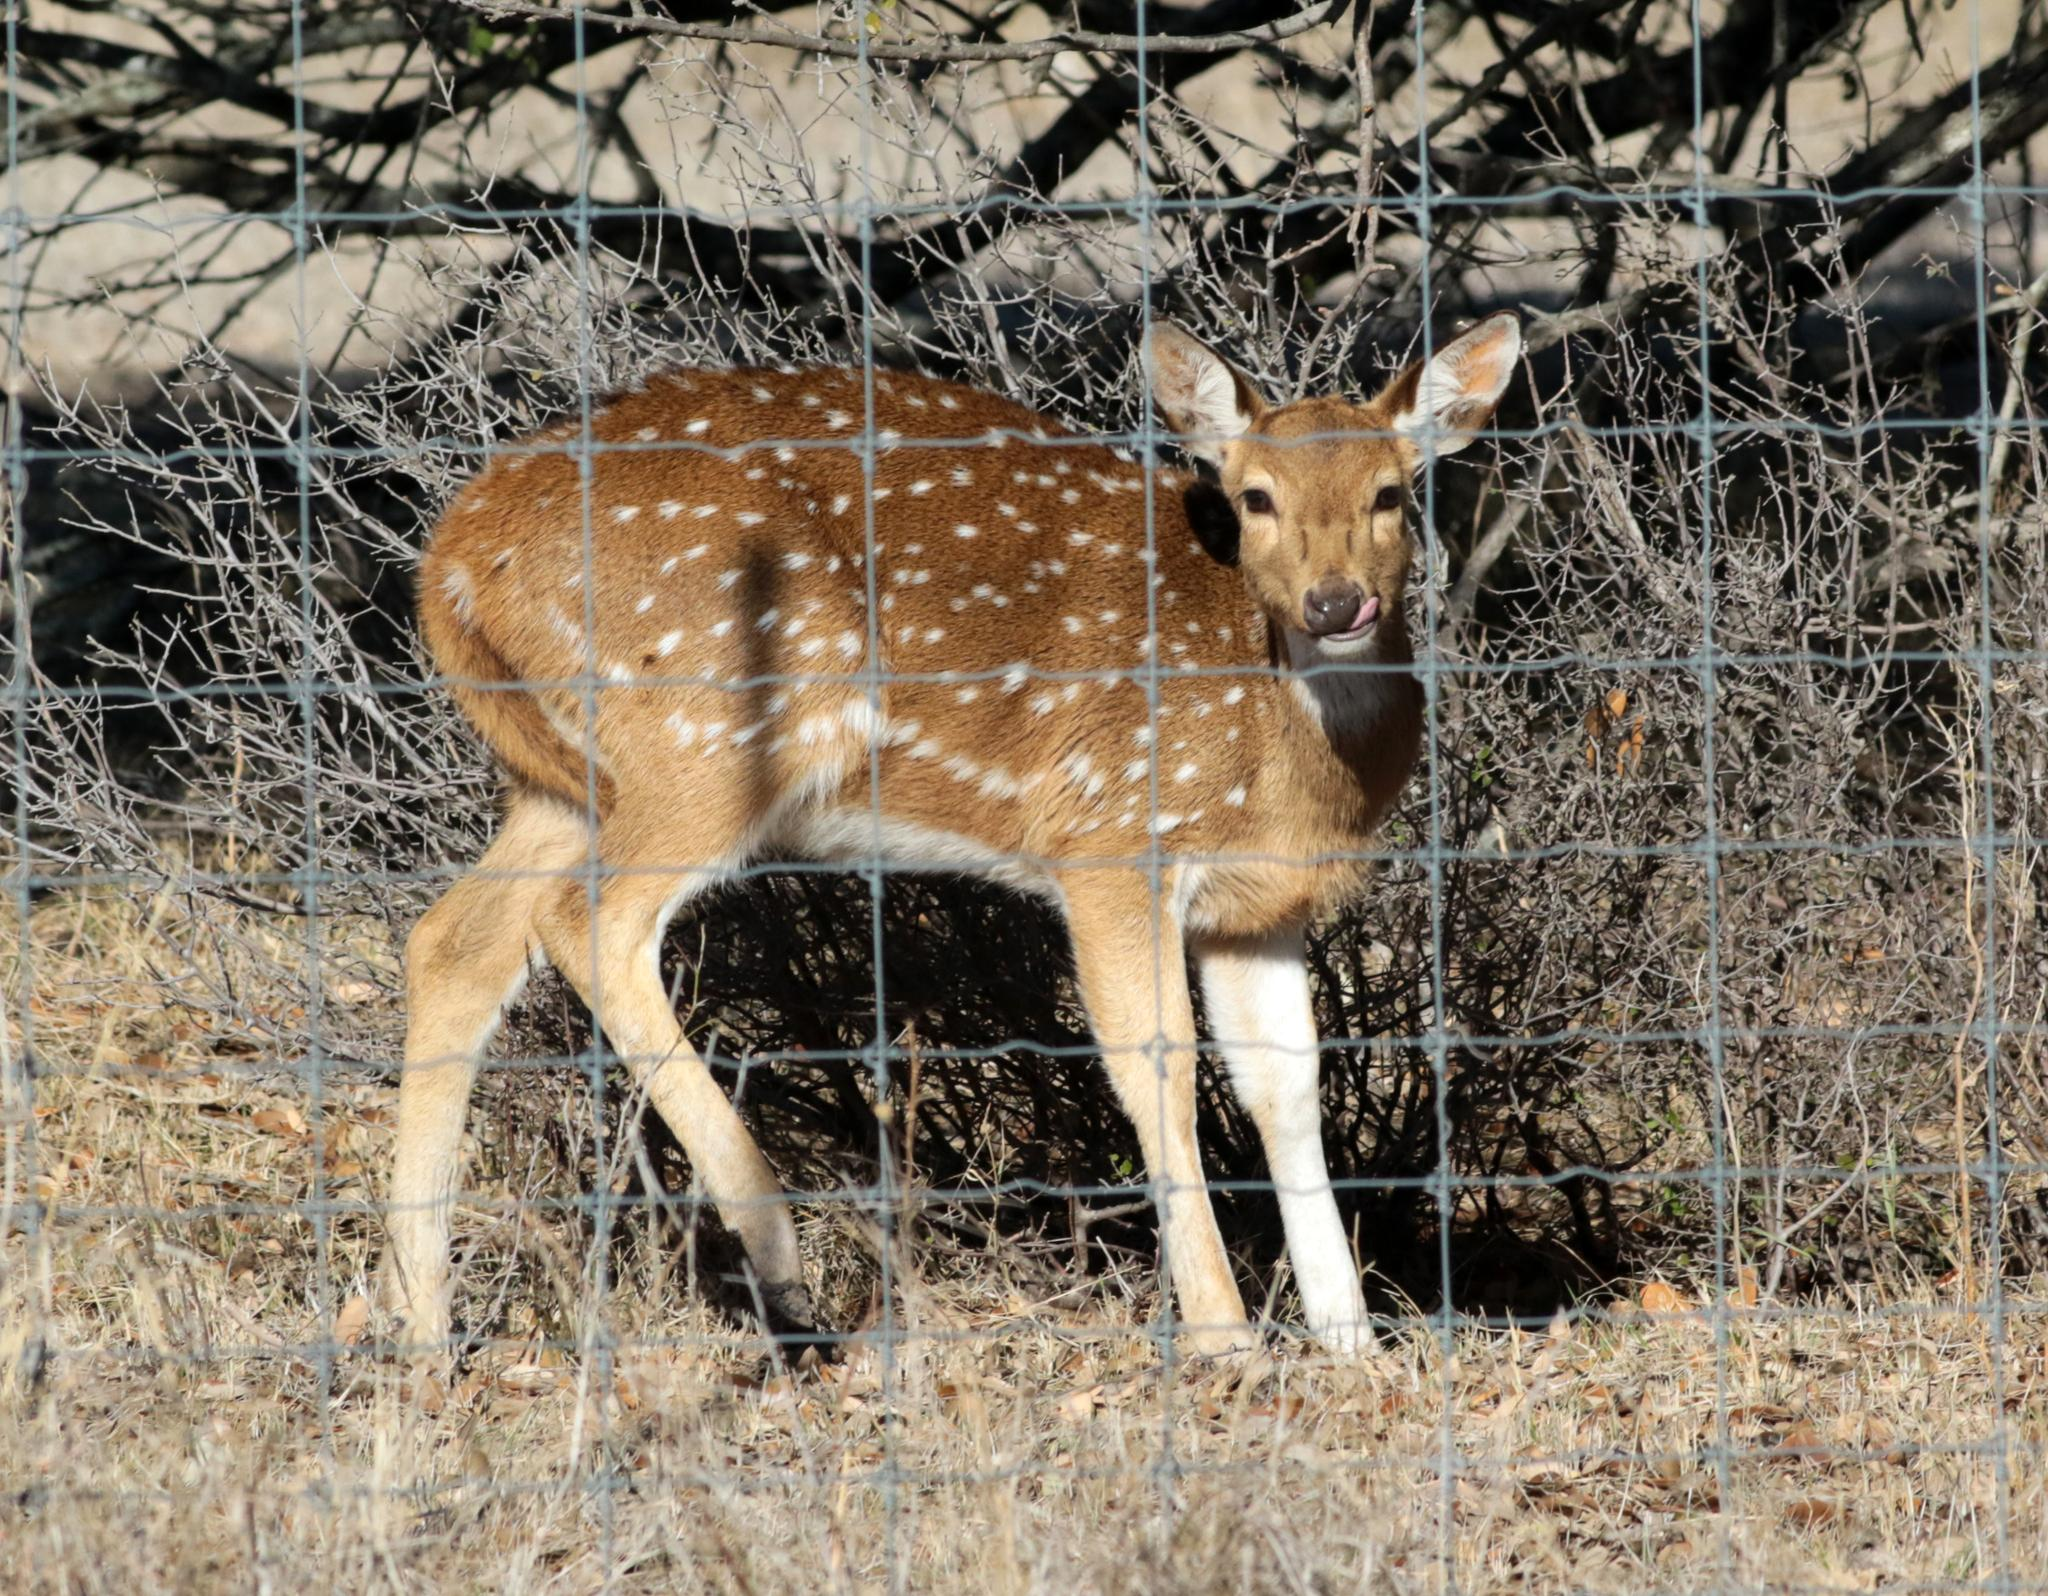Deer: (386, 314, 1519, 1353)
